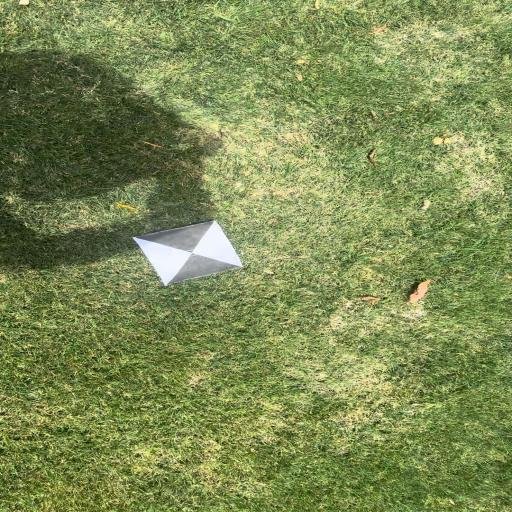target: (133, 221, 243, 286)
